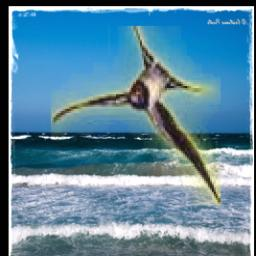Swallow: (50, 27, 220, 206)
